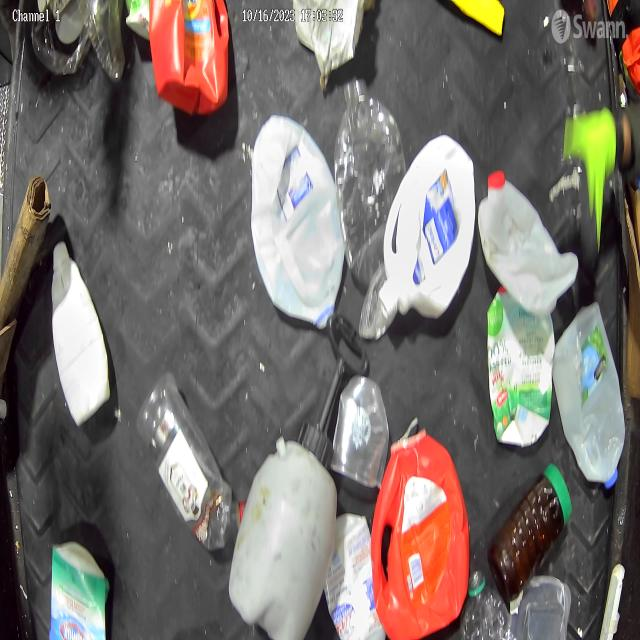milk_jug: (250, 114, 340, 331), (376, 133, 475, 322), (481, 169, 579, 318), (553, 298, 627, 495), (47, 234, 113, 429)
non_white_jug: (367, 433, 468, 634), (486, 286, 556, 447), (150, 0, 232, 118)
plastic_bottle: (135, 373, 247, 554), (336, 74, 405, 268), (487, 462, 572, 602), (459, 565, 511, 640)
